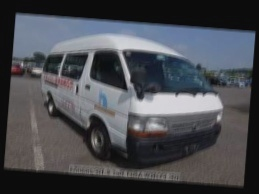van: (32, 26, 229, 171)
